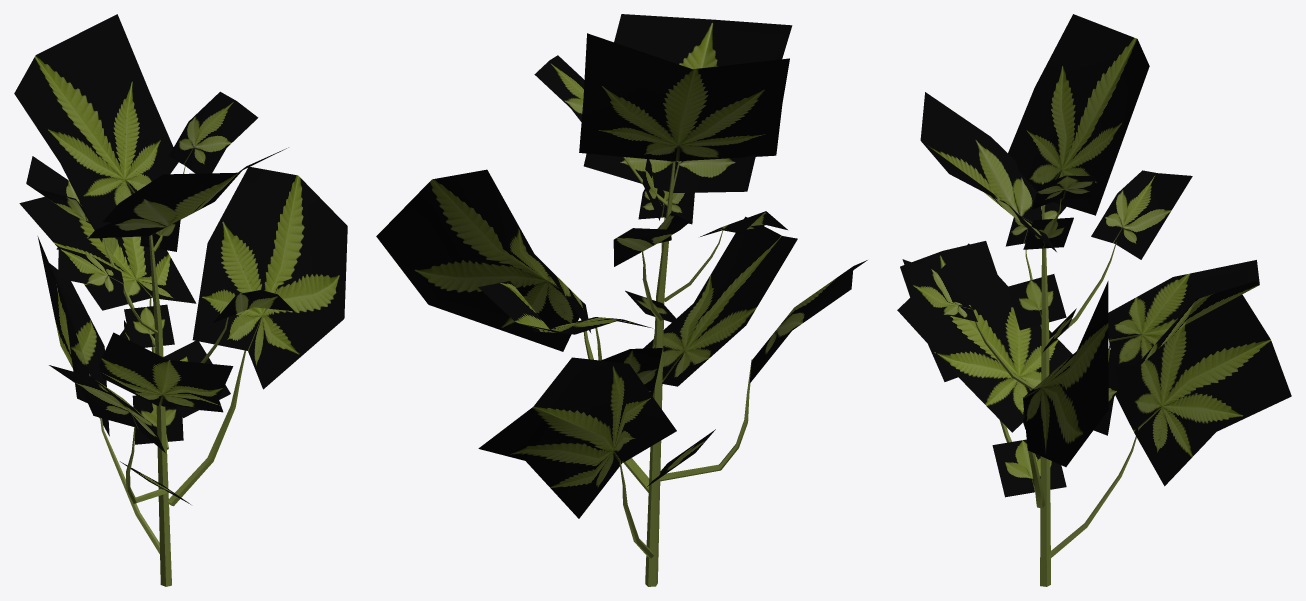
File: weed_stage_2.fbx
3 views of the same model, side by side, from view 1: azimuth 30°, elevation 25°; view 2: azimuth 150°, elevation 25°; view 3: azimuth 270°, elevation 25° (orthographic). The views are drawn at different scales.
Visible parts, largest first — view 1: weed_stage_2; view 2: weed_stage_2; view 3: weed_stage_2.
Part boxes in pixels (x1,y1,x2,y2): weed_stage_2: (14, 14, 347, 586); weed_stage_2: (376, 14, 867, 586); weed_stage_2: (897, 14, 1291, 586).
Bounding box in the file's own units: 25.87 × 36.19 × 24.87.
1 material, 1 textured.
